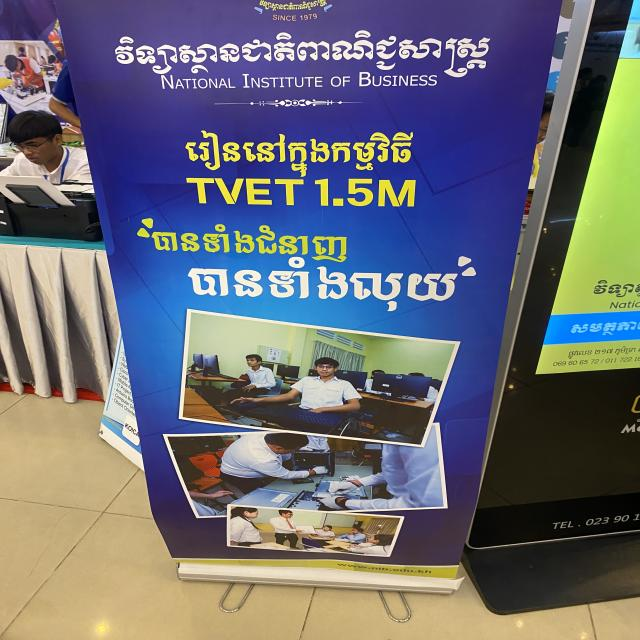359: (549, 355, 638, 368)
525: (309, 173, 420, 216)
625: (298, 11, 319, 22)
Yolov11_80vkh: (108, 25, 505, 80), (184, 254, 467, 313), (177, 124, 419, 179), (150, 219, 354, 265), (566, 317, 637, 340), (590, 274, 636, 300), (566, 344, 637, 360), (253, 0, 330, 11)
